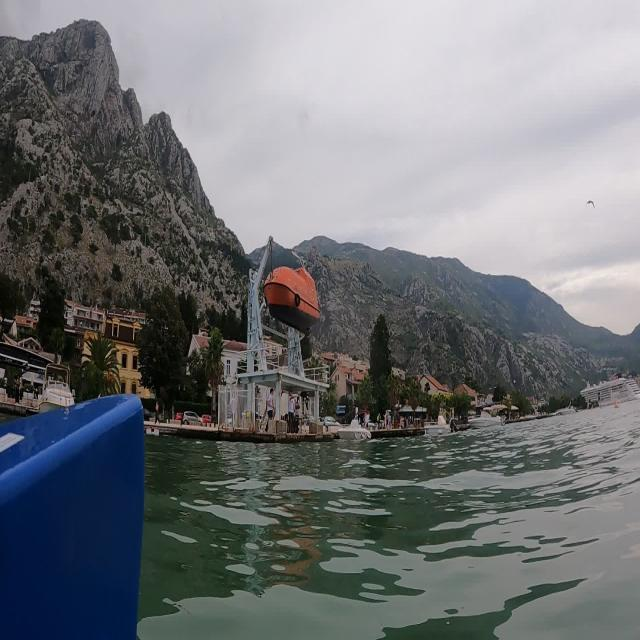boat: (565, 348, 640, 412), (336, 413, 381, 455), (420, 408, 454, 451), (472, 398, 510, 436)
